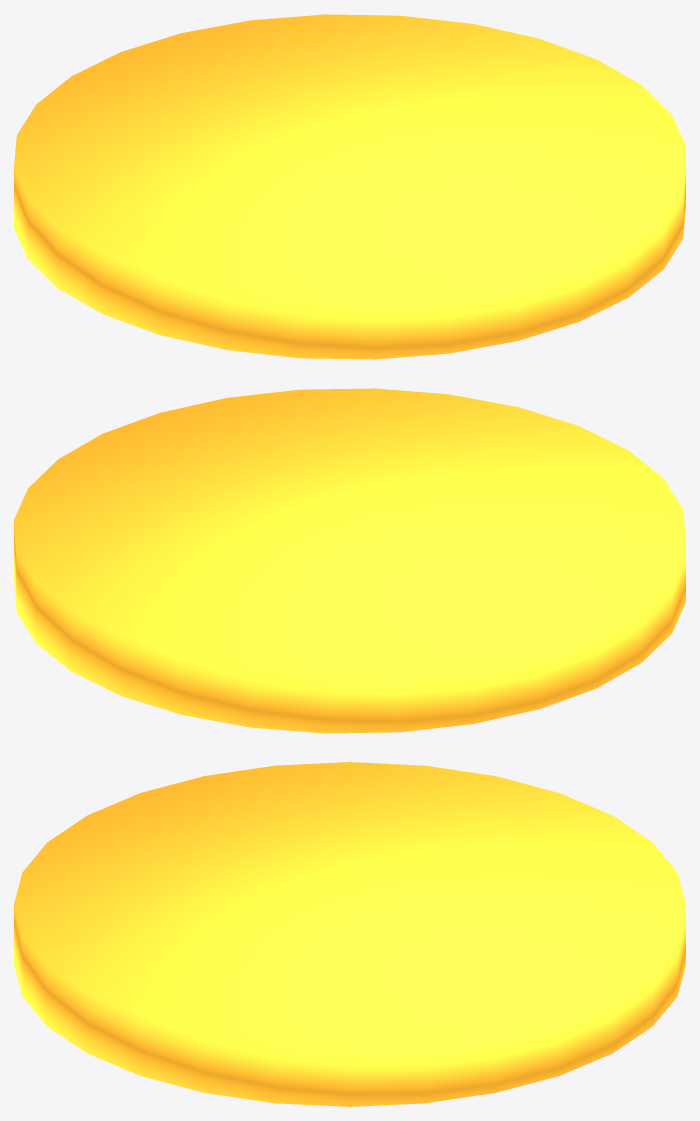
Rendered from coin.glb.
3 views of the same model, one above another, from view 1: azimuth 30°, elevation 25°; view 2: azimuth 150°, elevation 25°; view 3: azimuth 270°, elevation 25° (orthographic).
Parts seen in each view (by area): view 1: COIN; view 2: COIN; view 3: COIN.
Boxes of the visible parts, x1,y1,x2,y2 form: COIN: (14,14,685,359); COIN: (14,388,685,733); COIN: (14,762,685,1106).
Bounding box in the file's own units: 0.028 × 0.0028 × 0.028.
